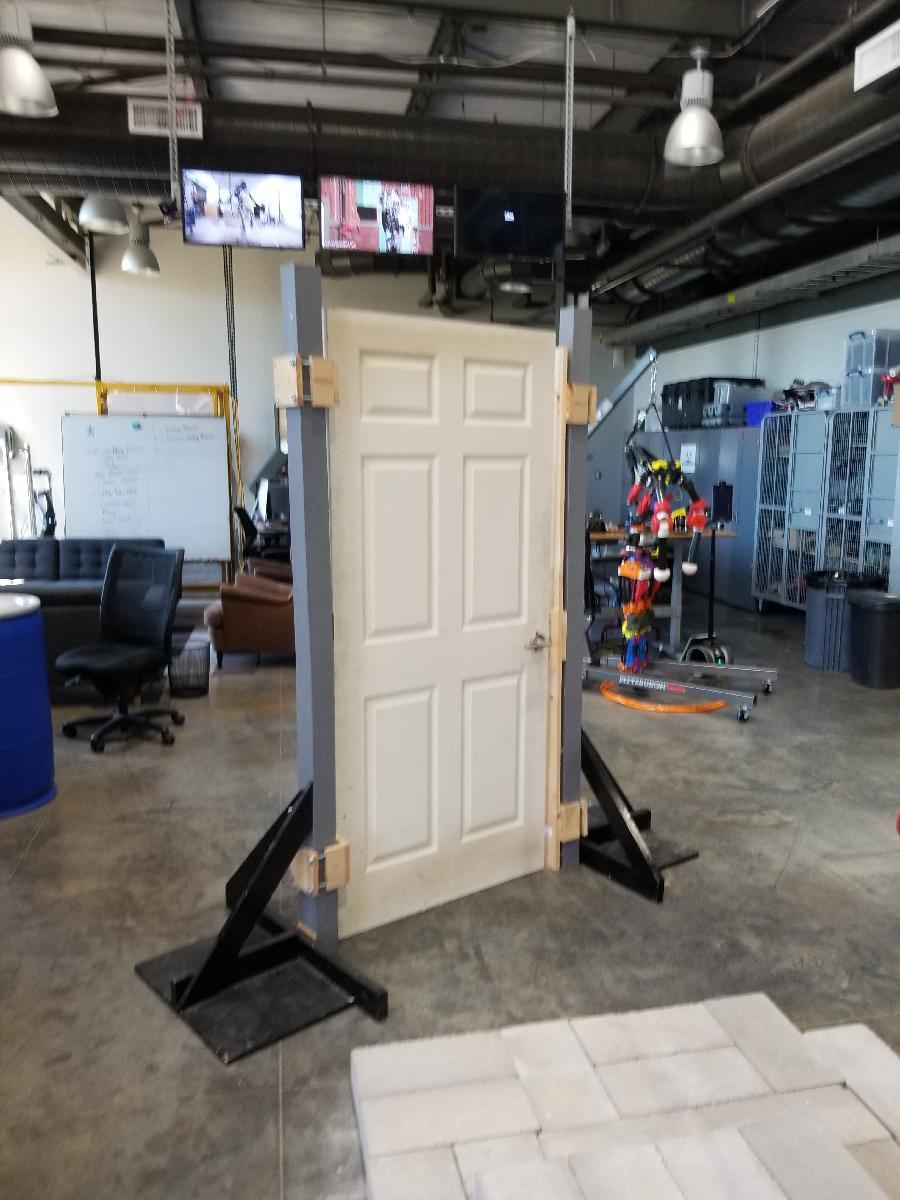door: (324, 305, 557, 943)
handle: (519, 630, 553, 654)
